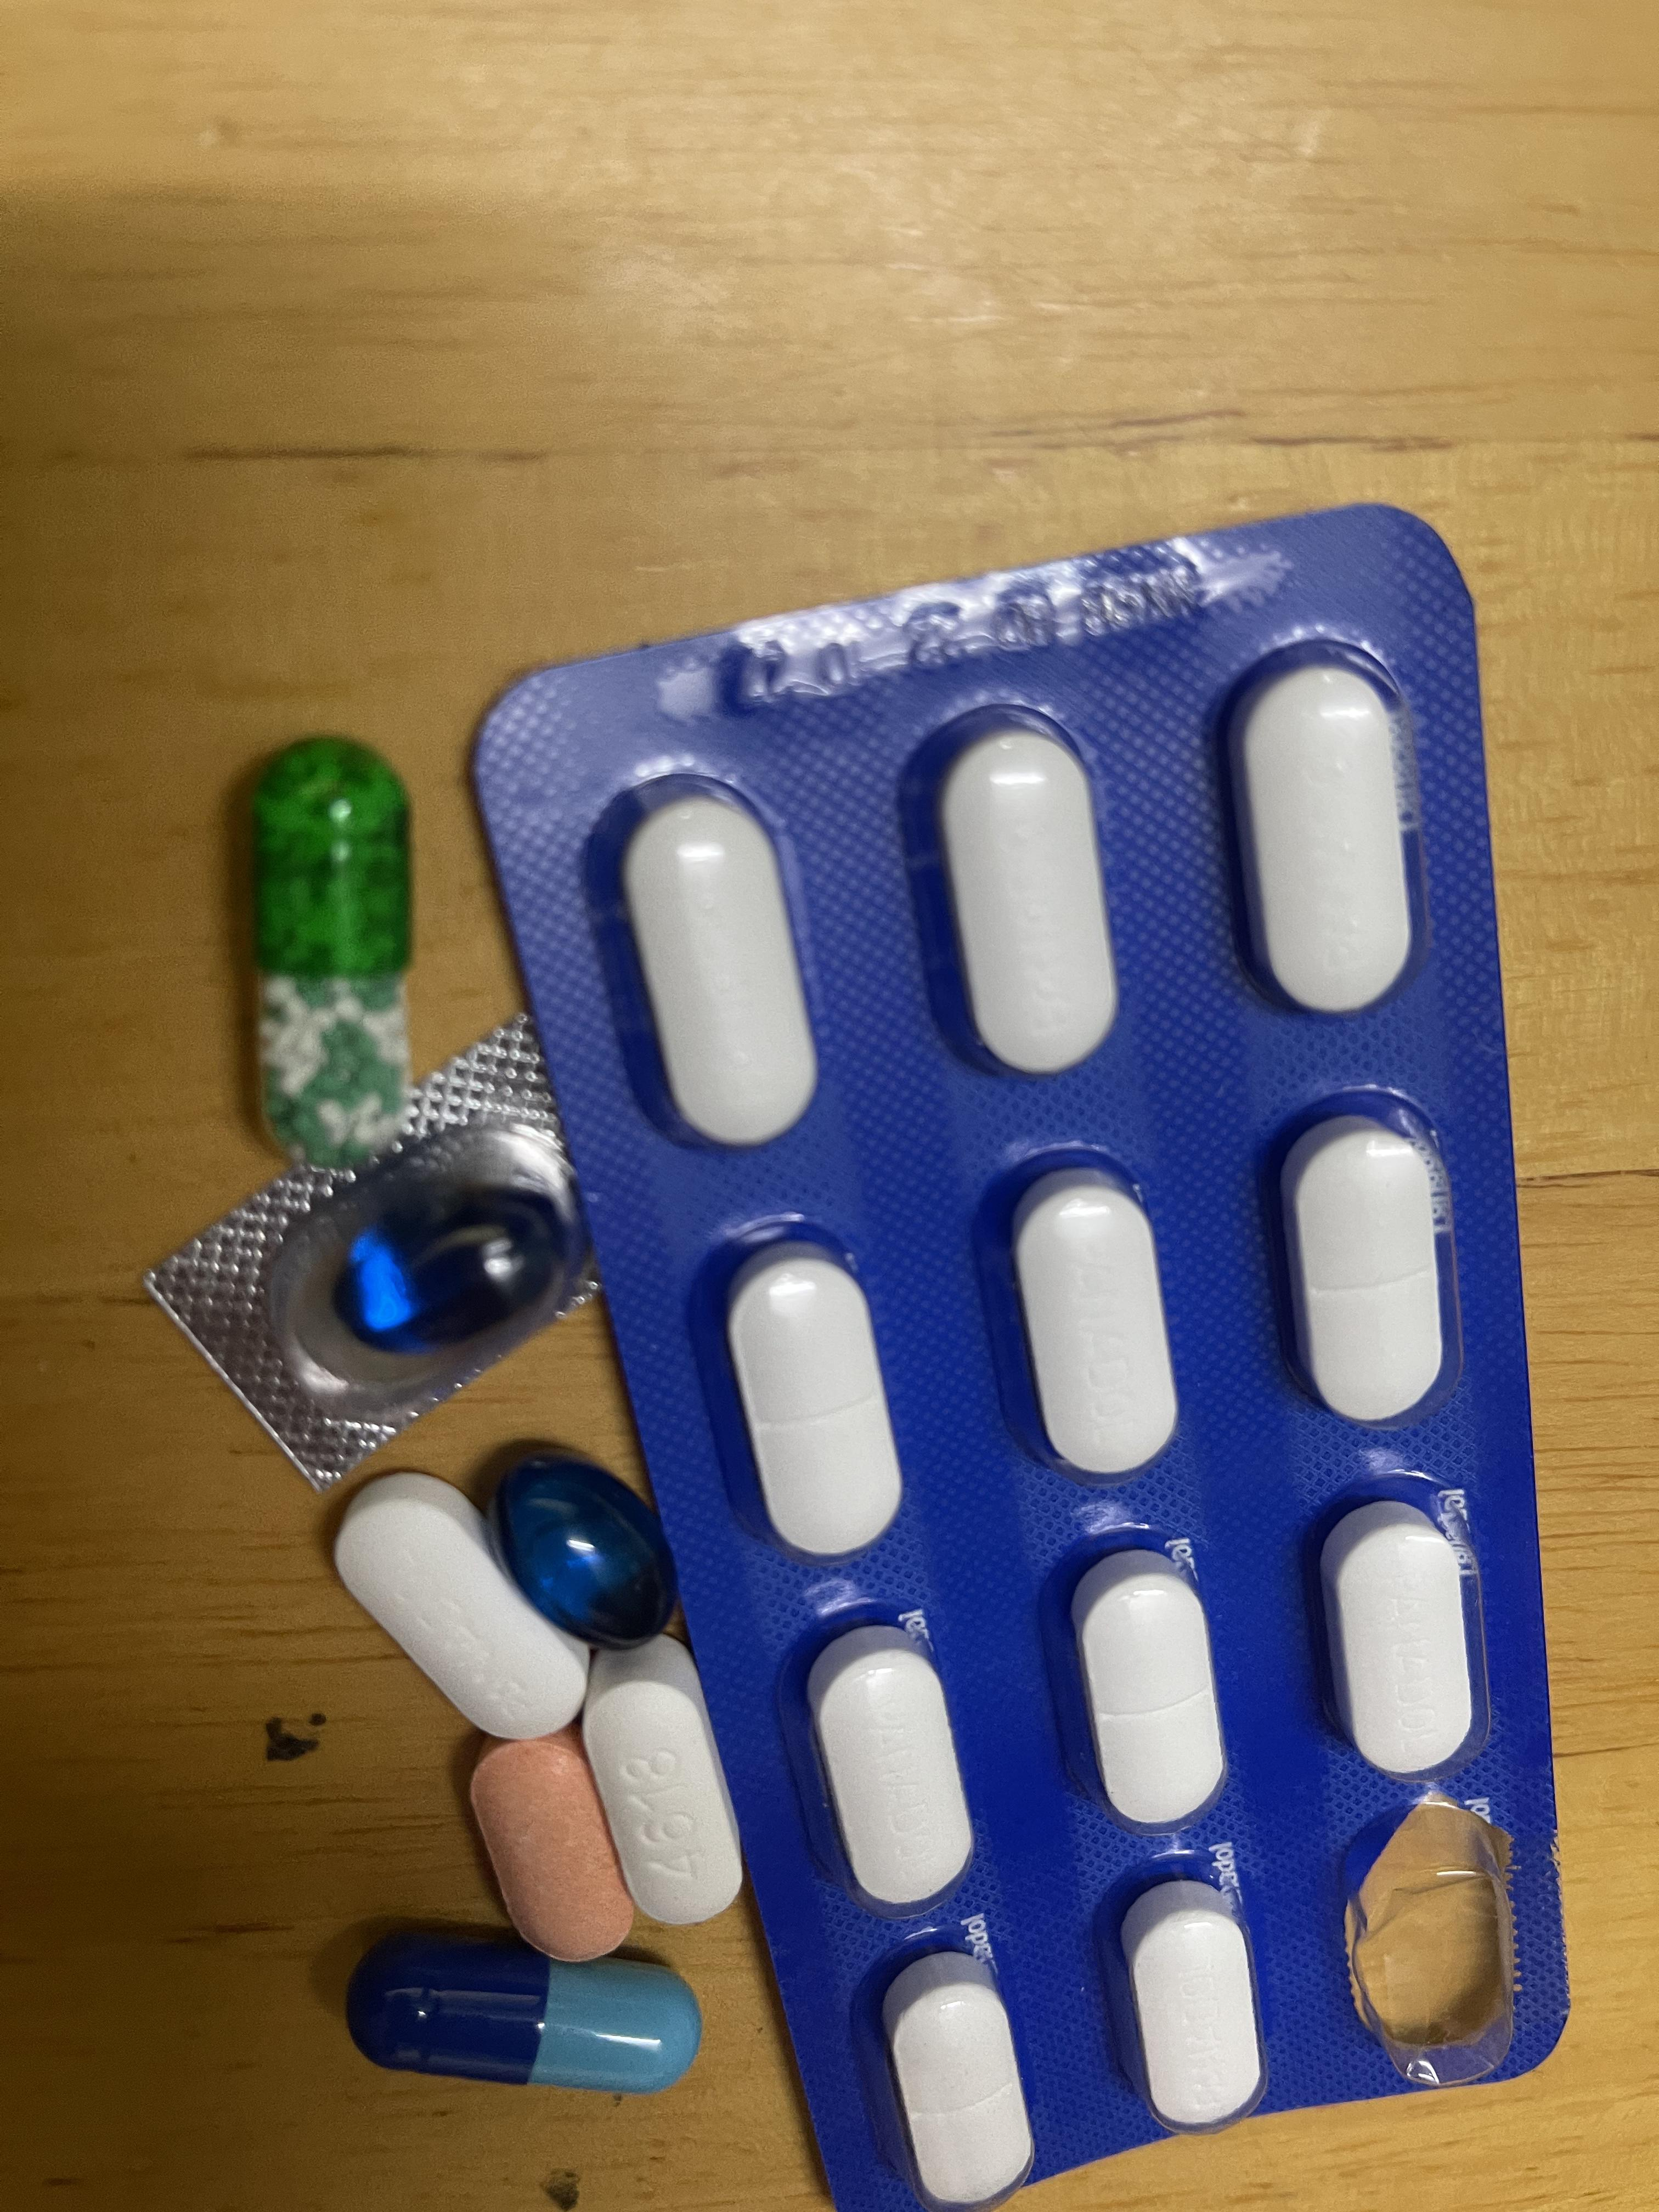Lincomyxin_500mg: (490, 1456, 681, 1655), (342, 1204, 547, 1346)
Loratadine_10mg: (464, 1730, 634, 1958)
Paracetamol_350mg: (617, 789, 823, 1148), (1223, 651, 1420, 1026), (924, 716, 1122, 1082), (335, 1467, 582, 1747), (720, 1240, 904, 1564), (1274, 1108, 1457, 1433), (1000, 1167, 1178, 1487), (796, 1620, 981, 1918), (1061, 1541, 1232, 1834), (1316, 1494, 1485, 1785), (875, 1946, 1040, 2209), (1115, 1883, 1269, 2137)
Paracetamol_500mg: (587, 1674, 742, 1926)
Paracetamol_650mg: (249, 735, 416, 1143)
pill: (361, 1932, 690, 2087)
